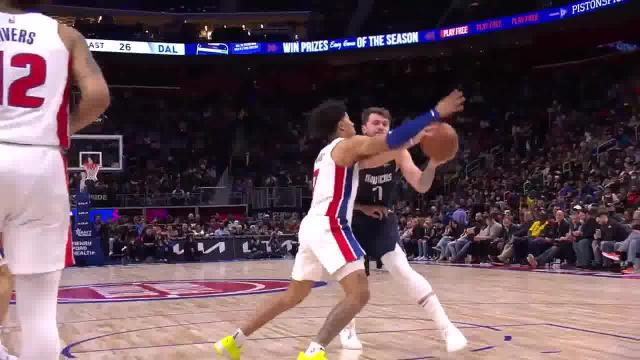ball-handler: (348, 100, 466, 360)
player: (215, 75, 372, 360)
